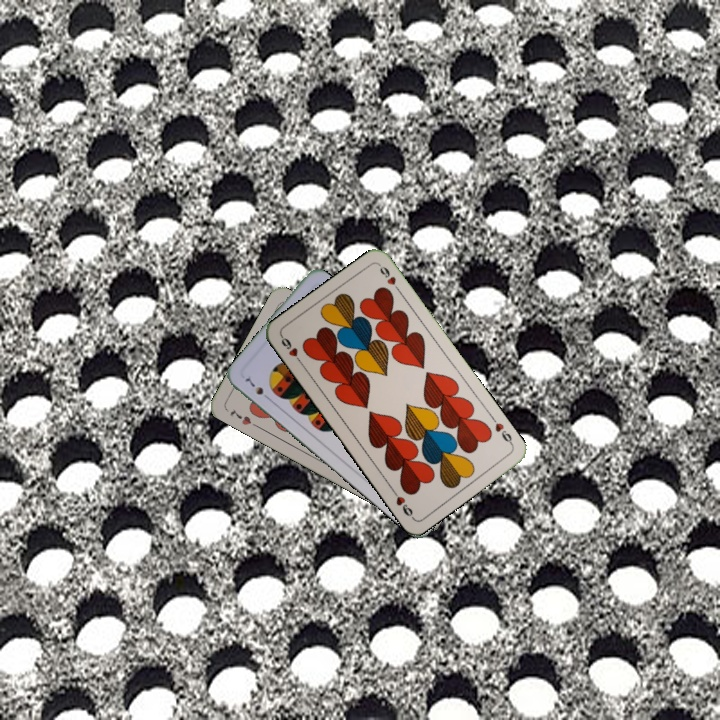H7: (226, 404, 261, 430)
H9: (277, 332, 306, 367), (487, 413, 516, 448)
S7: (239, 372, 273, 403)
